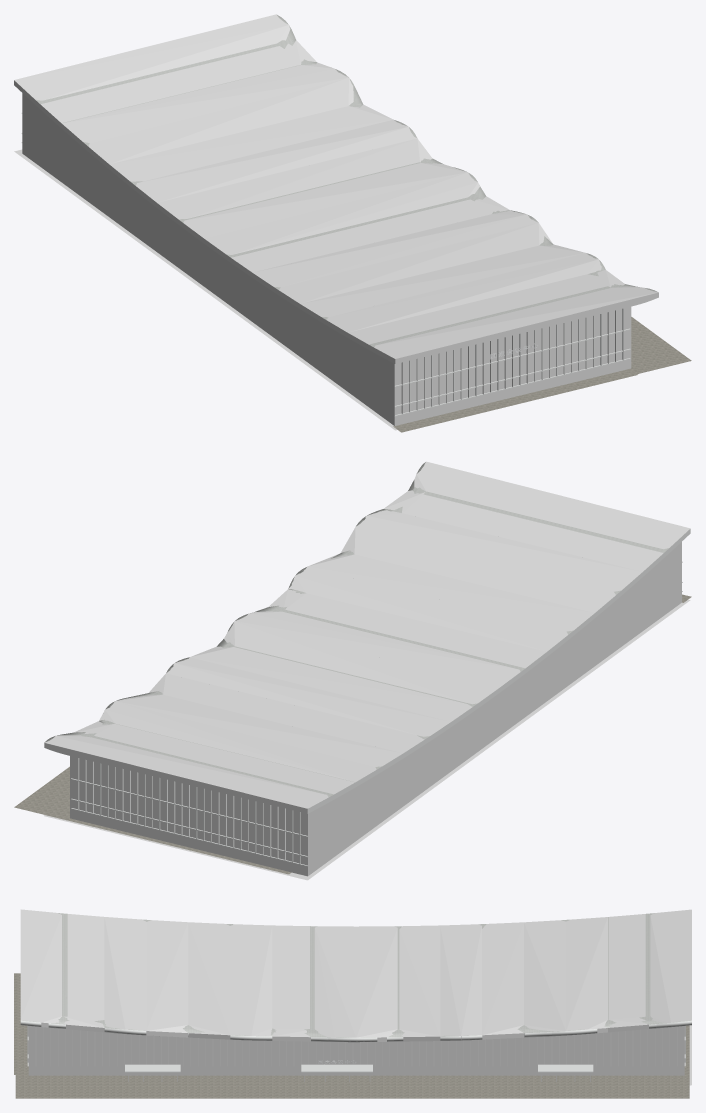
File: cncc.glb
3 views of the same model, one above another, from view 1: azimuth 30°, elevation 25°; view 2: azimuth 150°, elevation 25°; view 3: azimuth 270°, elevation 25° (orthographic). The views are drawn at different scales.
Parts seen in each view (by area): view 1: COL_hall, Far, COL_roof.015, COL_roof.012, COL_roof.013, COL_roof.010, COL_roof.011, COL_roof.007, COL_roof.009, COL_roof, COL_roof.014, Centre (+19 smaller); view 2: COL_hall.011, Far, COL_roof, COL_roof.003, COL_roof.002, COL_roof.005, COL_roof.004, COL_roof.015, COL_roof.008, COL_roof.001, COL_roof.007, COL_roof.010 (+19 smaller); view 3: Far, Centre, COL_roof.003, COL_roof.004, COL_roof.011, COL_roof.009, COL_roof.002, COL_roof.005, COL_roof.007, COL_roof.013, COL_roof, COL_roof.008 (+18 smaller).
Part boxes in pixels (x1,y1,x2,y2): COL_hall: [363, 306, 631, 425]; Far: [14, 29, 691, 432]; COL_roof.015: [15, 14, 289, 100]; COL_roof.012: [88, 77, 353, 164]; COL_roof.013: [62, 62, 348, 142]; COL_roof.010: [136, 119, 416, 202]; COL_roof.011: [109, 104, 392, 181]; COL_roof.007: [205, 172, 479, 254]; COL_roof.009: [157, 138, 432, 219]; COL_roof: [374, 286, 658, 363]; COL_roof.014: [41, 40, 316, 122]; Centre: [14, 15, 657, 416]; COL_hall.011: [70, 756, 338, 876]; Far: [14, 480, 691, 874]; COL_roof: [414, 461, 690, 549]; COL_roof.003: [341, 527, 615, 612]; COL_roof.002: [356, 510, 642, 591]; COL_roof.005: [288, 566, 567, 651]; COL_roof.004: [308, 554, 594, 631]; COL_roof.015: [44, 735, 328, 813]; COL_roof.008: [224, 621, 498, 704]; COL_roof.001: [383, 490, 663, 571]; COL_roof.007: [235, 611, 520, 687]; COL_roof.010: [166, 657, 450, 736]; Far: [14, 913, 689, 1098]; Centre: [20, 1016, 691, 1072]; COL_roof.003: [146, 920, 188, 1037]; COL_roof.004: [188, 922, 230, 1039]; COL_roof.011: [482, 922, 523, 1039]; COL_roof.009: [399, 925, 440, 1041]; COL_roof.002: [104, 917, 146, 1031]; COL_roof.005: [230, 924, 272, 1036]; COL_roof.007: [314, 926, 356, 1037]; COL_roof.013: [566, 917, 607, 1033]; COL_roof: [20, 909, 61, 1027]; COL_roof.008: [356, 926, 397, 1041].
Bounding box in the file's own units: 183 × 43.95 × 416.
Materials: 10 (3 with a texture image).
